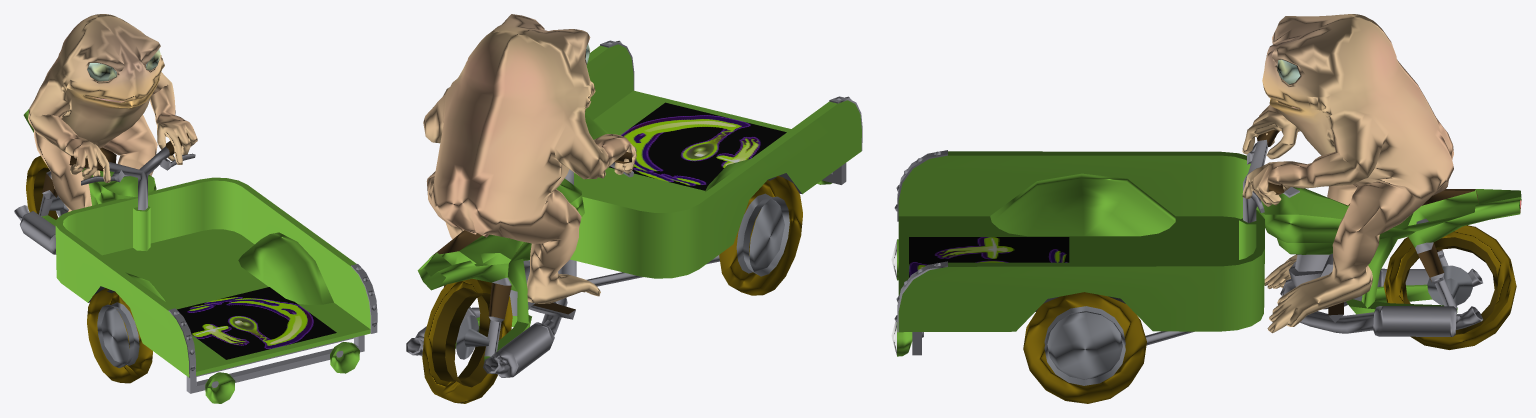
File: kart.glb
The picture shows the model from 3 angles, left to right: view 1: azimuth 30°, elevation 25°; view 2: azimuth 150°, elevation 25°; view 3: azimuth 270°, elevation 25°; orthographic projection. The views are drawn at different scales.
Visible parts, largest first — view 1: body_5, body_6, body_1, body_4, wheel-front-left, wheel-rear-left, body_2, body_3; view 2: body_6, body_5, body_1, wheel-front-left, wheel-rear-left, body_4, body_3, wheel-rear-right; view 3: body_5, body_6, wheel-front-right, body_4, wheel-rear-left, body_1, body_3, wheel-rear-right.
Boxes of the visible parts, x1=… form: body_5: x1=23, y1=109, x2=370, y2=403; body_6: x1=28, y1=14, x2=197, y2=212; body_1: x1=177, y1=287, x2=336, y2=359; body_4: x1=14, y1=146, x2=377, y2=393; wheel-front-left: x1=87, y1=288, x2=152, y2=383; wheel-rear-left: x1=26, y1=155, x2=58, y2=219; body_2: x1=87, y1=49, x2=160, y2=81; body_3: x1=42, y1=133, x2=188, y2=197; body_6: x1=423, y1=14, x2=636, y2=303; body_5: x1=417, y1=44, x2=861, y2=361; body_1: x1=609, y1=102, x2=786, y2=190; wheel-front-left: x1=719, y1=176, x2=802, y2=295; wheel-rear-left: x1=422, y1=278, x2=512, y2=403; body_4: x1=406, y1=40, x2=862, y2=377; body_3: x1=433, y1=152, x2=631, y2=319; wheel-rear-right: x1=456, y1=315, x2=489, y2=359; body_5: x1=897, y1=151, x2=1521, y2=356; body_6: x1=1242, y1=14, x2=1453, y2=333; wheel-front-right: x1=1023, y1=292, x2=1146, y2=403; body_4: x1=894, y1=139, x2=1483, y2=355; wheel-rear-left: x1=1383, y1=225, x2=1516, y2=349; body_1: x1=909, y1=237, x2=1069, y2=277; body_3: x1=1257, y1=130, x2=1478, y2=315; wheel-rear-right: x1=1427, y1=265, x2=1472, y2=305.
Size of the model in its own units: 0.6719 by 0.8494 by 1.48.
6 materials, 6 textured.
